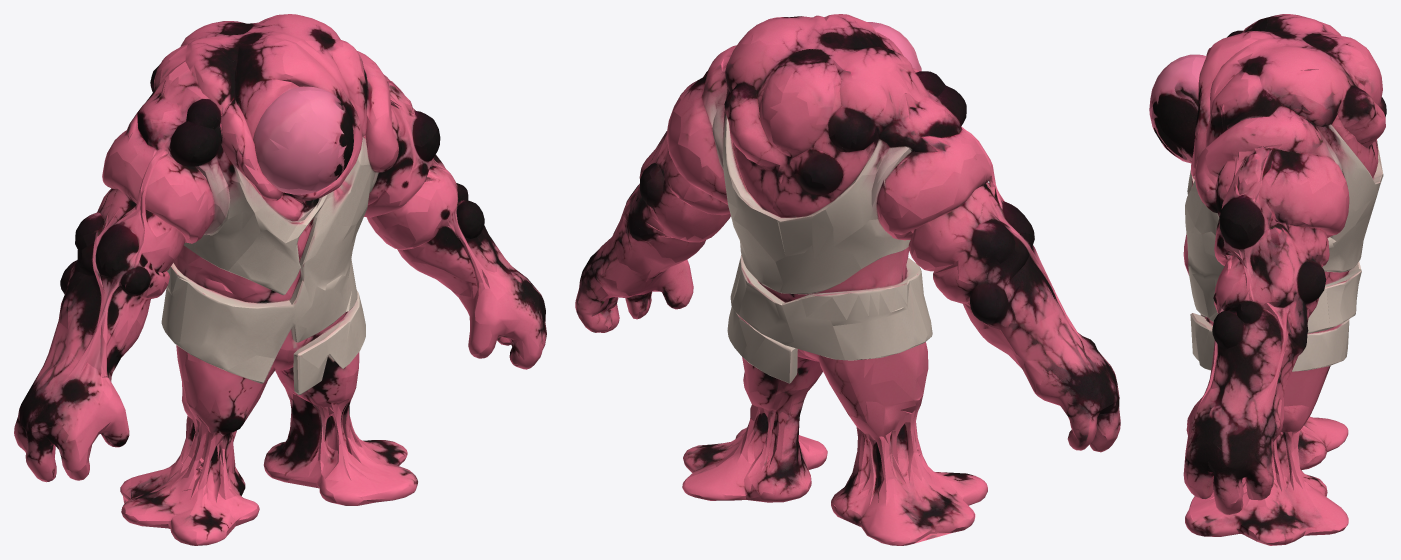
3 views of the same model, side by side, from view 1: azimuth 30°, elevation 25°; view 2: azimuth 150°, elevation 25°; view 3: azimuth 270°, elevation 25° (orthographic). The views are drawn at different scales.
Size of the model in its own units: 1.9 by 1.6 by 0.769.
Materials: 1 (1 with a texture image).
